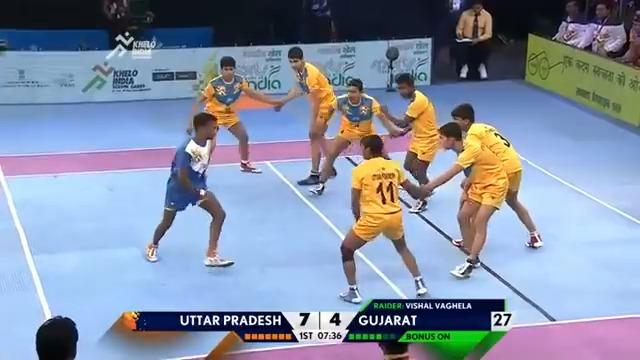Player: (338, 133, 432, 304), (419, 121, 512, 278), (449, 103, 544, 250), (308, 77, 409, 195), (189, 55, 282, 174), (273, 46, 338, 185), (380, 72, 439, 213)
Raider: (144, 112, 235, 267)
referee: (454, 2, 493, 80)
